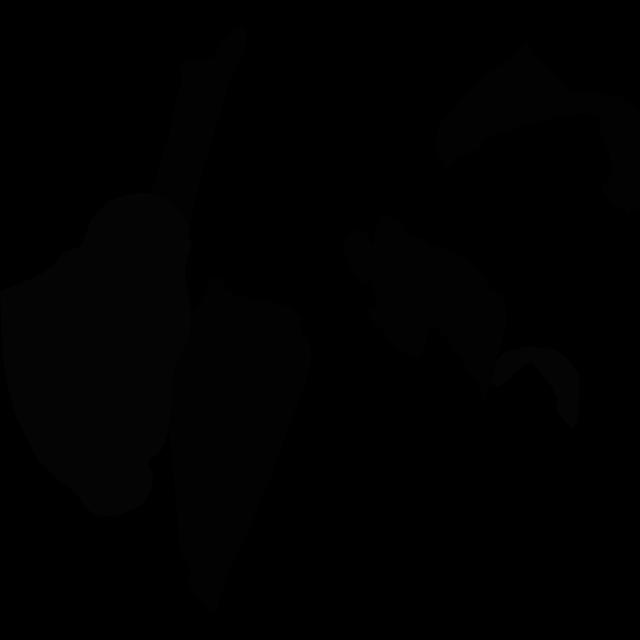cardboard: (169, 277, 312, 615), (342, 212, 507, 404), (434, 43, 640, 169), (151, 25, 247, 227), (600, 125, 640, 213)
soft_plastic: (0, 192, 192, 517), (490, 345, 579, 429)
